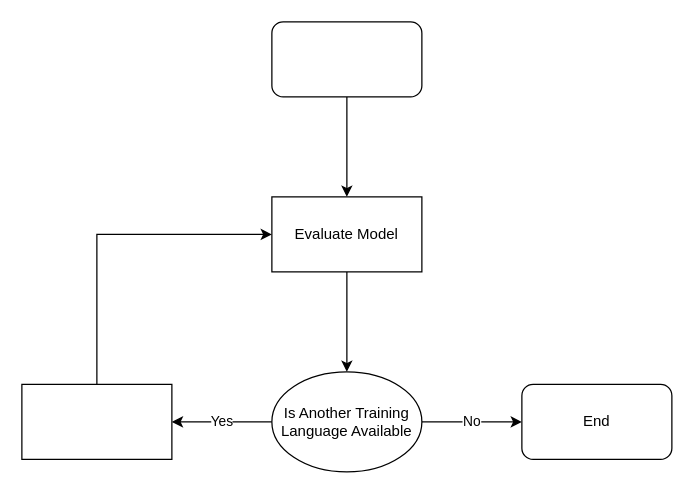
Image size: 694x494. Some labels were removed from this diagram. Here are the shapes that lost their labels. From the top down, the box of each, then its label:
(271, 21, 422, 97): Start
(21, 383, 172, 459): Train On Next Language
